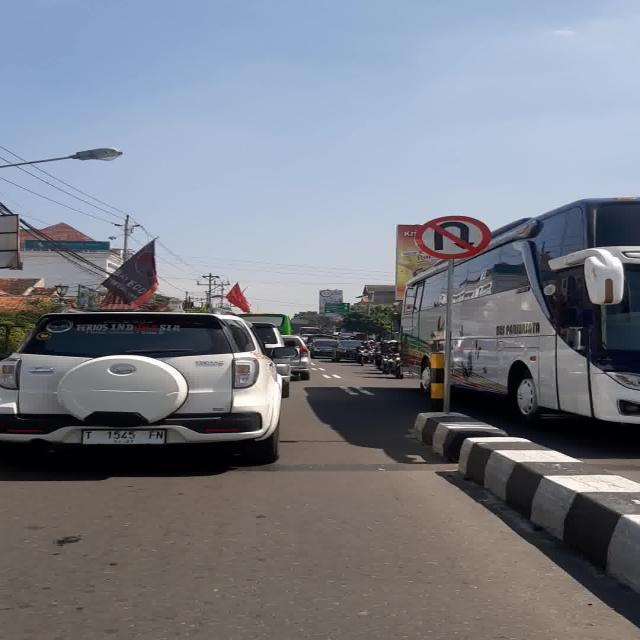Dilarang Putar Balik: (414, 215, 492, 259)
